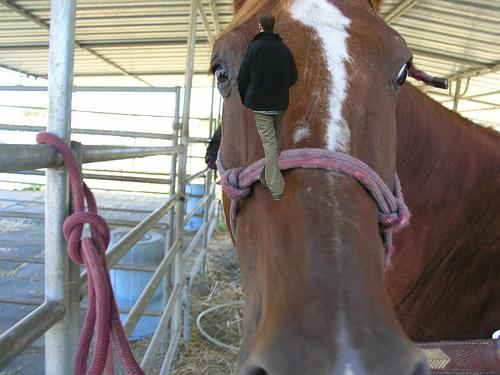tampered: (238, 14, 298, 200)
